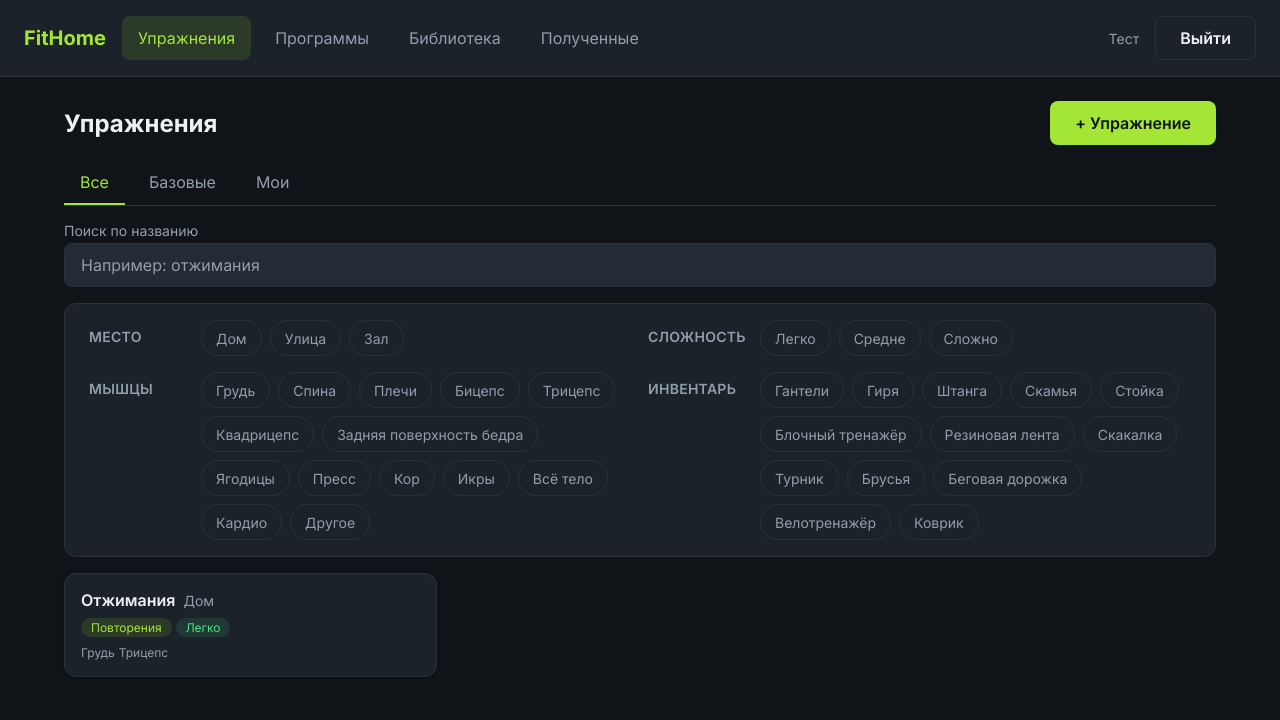
ExercisesPage — детали и CRUD › клик по карточке открывает детали с мышцами и инвентарём
Click the text "Отжимания" at (128, 600), box [81, 590, 175, 610]
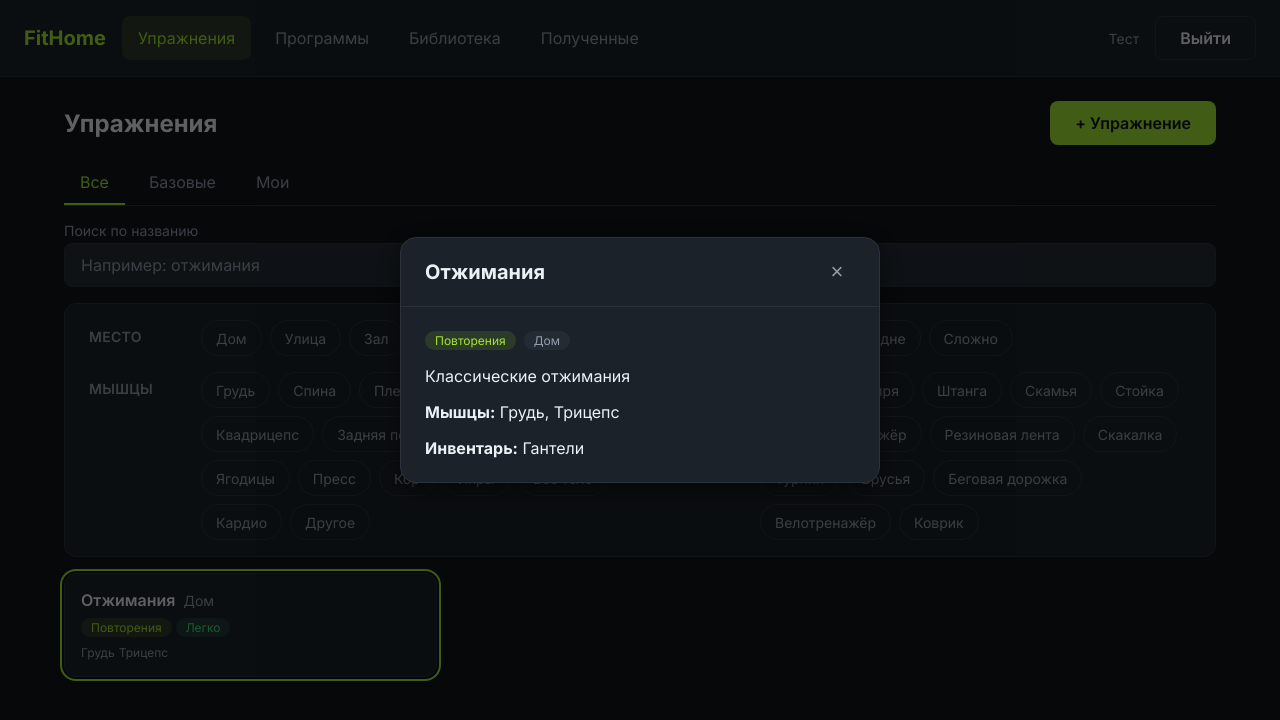
Expected: the button "Грудь" is shown, [201, 372, 270, 408]
Expected: the dialog "Отжимания" is shown
